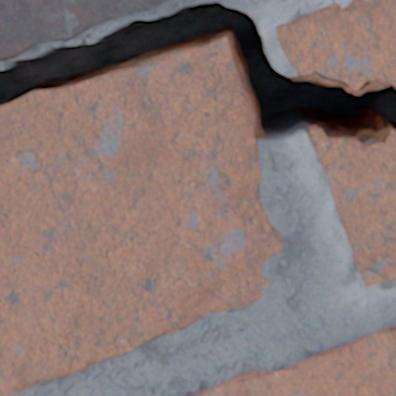brick: (0, 38, 281, 394), (186, 324, 395, 395), (0, 0, 167, 60)
broken_brick: (306, 125, 395, 285), (275, 0, 395, 90)
crack: (0, 1, 395, 147)
